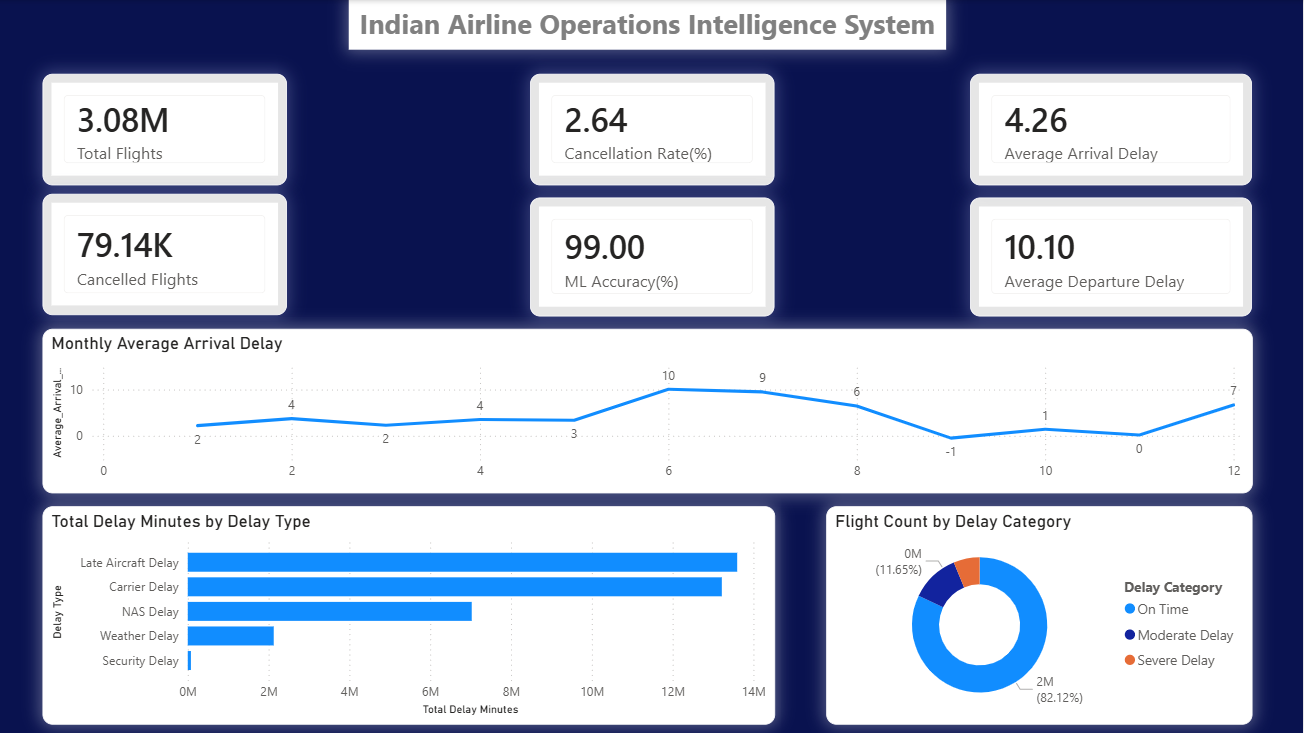

The dashboard page shown, as its layout file describes it:
{"tool":"powerbi","page":{"name":"Executive Overview","canvas":[1280,720],"ordinal":0},"visuals":[{"type":"textbox","box":[342.3,0,586.5,49.1],"z":0},{"type":"cardVisual","fields":{"Data":["Sum(kpi_summary.Value)"]},"box":[41.2,72.7,240.1,109.8],"z":1000},{"type":"cardVisual","fields":{"Data":["Sum(kpi_summary.Value)"]},"box":[41.2,190.7,240.1,119.4],"z":2000},{"type":"cardVisual","fields":{"Data":["Avg(kpi_summary.Value)"]},"box":[520.1,72.7,240.1,109.8],"z":3000},{"type":"cardVisual","fields":{"Data":["Avg(kpi_summary.Value)"]},"box":[952.3,193.5,277.2,116.6],"z":4000},{"type":"cardVisual","fields":{"Data":["Sum(kpi_summary.Value)"]},"box":[520.1,193.5,240.1,116.6],"z":5000},{"type":"cardVisual","title":"Average Arrival Delay","fields":{"Data":["Avg(kpi_summary.Value)"]},"box":[952.3,72.7,277.2,109.8],"z":6000},{"type":"lineChart","title":"Monthly Average Arrival Delay","fields":{"Category":["monthly_delay.Month"],"Y":["Sum(monthly_delay.Average_Arrival_Delay)"]},"box":[41.2,322.5,1188.3,161.9],"z":7000},{"type":"barChart","fields":{"Category":["delay_causes.Delay_Type"],"Y":["Sum(delay_causes.Total_Delay_Minutes)"]},"box":[41.2,496.7,719,214.1],"z":8000},{"type":"donutChart","fields":{"Category":["delay_severity.Delay_Category"],"Y":["Sum(delay_severity.Flight_Count)"]},"box":[811,496.7,418.5,214.1],"z":9000}]}

Visuals, with their boxes in screenshot pixels (x1, y1, x2, y2), scaled from the page's 1280x720 canvas onto the 1304x733 screenshot:
textbox: <box>349,0,946,50</box>
cardVisual - Sum(kpi_summary.Value): <box>42,74,287,186</box>
cardVisual - Sum(kpi_summary.Value): <box>42,194,287,316</box>
cardVisual - Avg(kpi_summary.Value): <box>530,74,774,186</box>
cardVisual - Avg(kpi_summary.Value): <box>970,197,1253,316</box>
cardVisual - Sum(kpi_summary.Value): <box>530,197,774,316</box>
"Average Arrival Delay" cardVisual: <box>970,74,1253,186</box>
"Monthly Average Arrival Delay" lineChart: <box>42,328,1253,493</box>
barChart - delay_causes.Delay_Type x Sum(delay_causes.Total_Delay_Minutes): <box>42,506,774,724</box>
donutChart - delay_severity.Delay_Category x Sum(delay_severity.Flight_Count): <box>826,506,1253,724</box>
